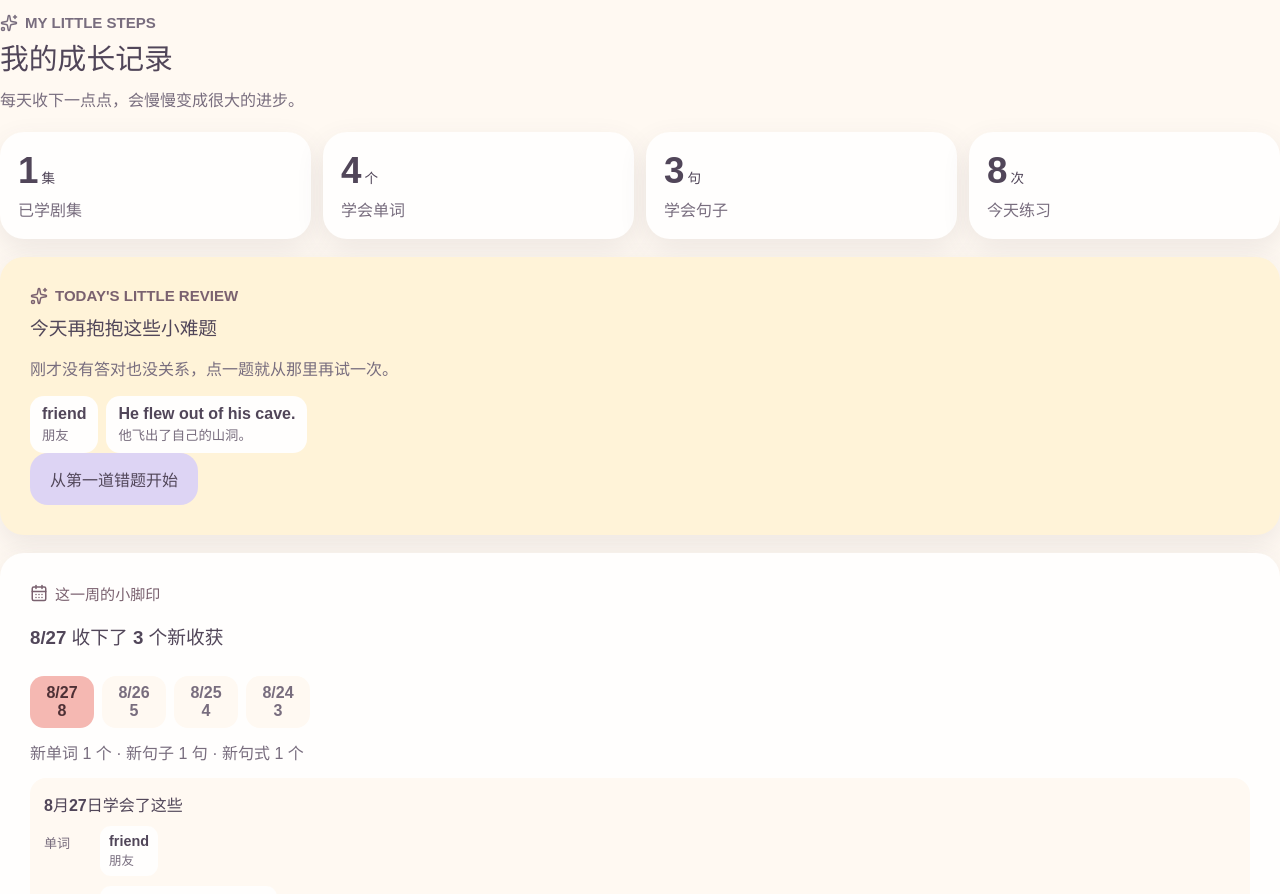
Test: GrowthRecord › shows the exact words, sentences, patterns, and episode learned on the selected day
Click the tab named "查看 2026-08-26 的学习" at (134, 702), box [102,676,166,728]
(page scrolled)
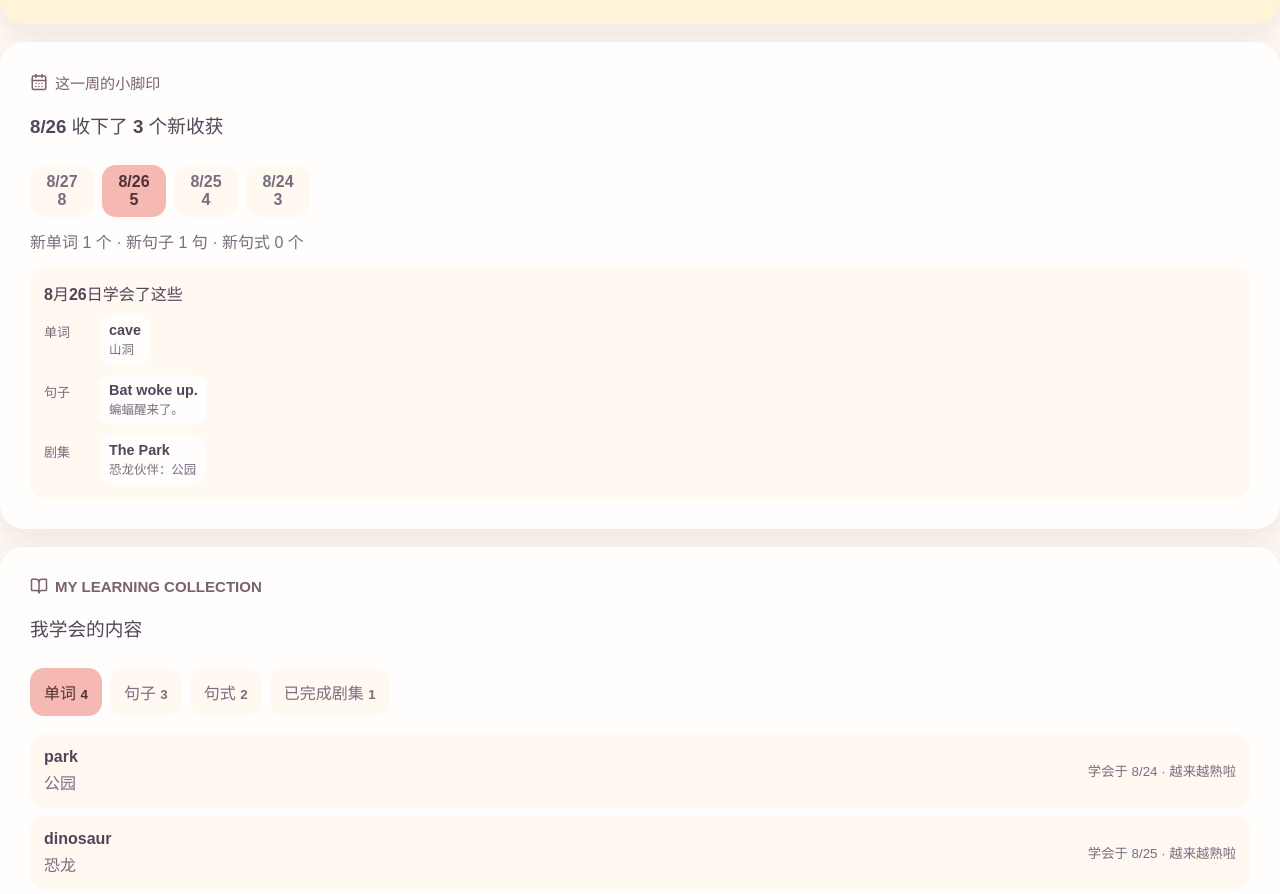
Check: the heading "8月26日学会了这些" is shown, box [44,286,183,303]
Check: the text "cave" is shown, box [109,322,141,338]
Check: the text "Bat woke up." is shown, box [109,382,198,398]
